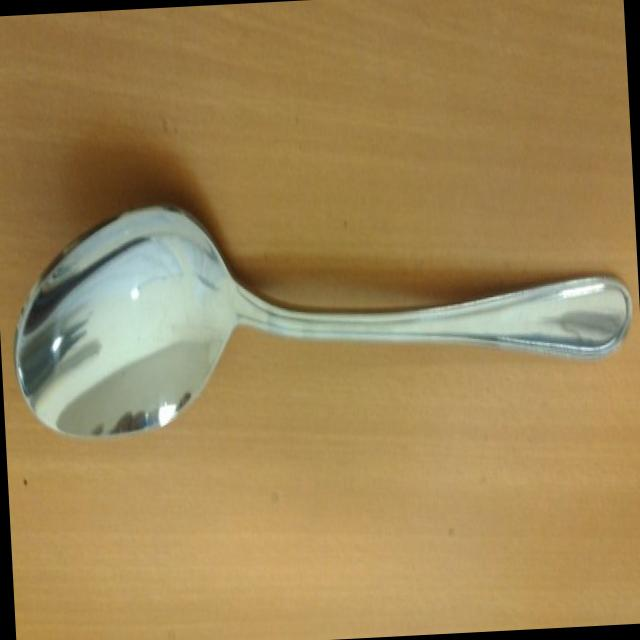spoon: (0, 157, 640, 476)
